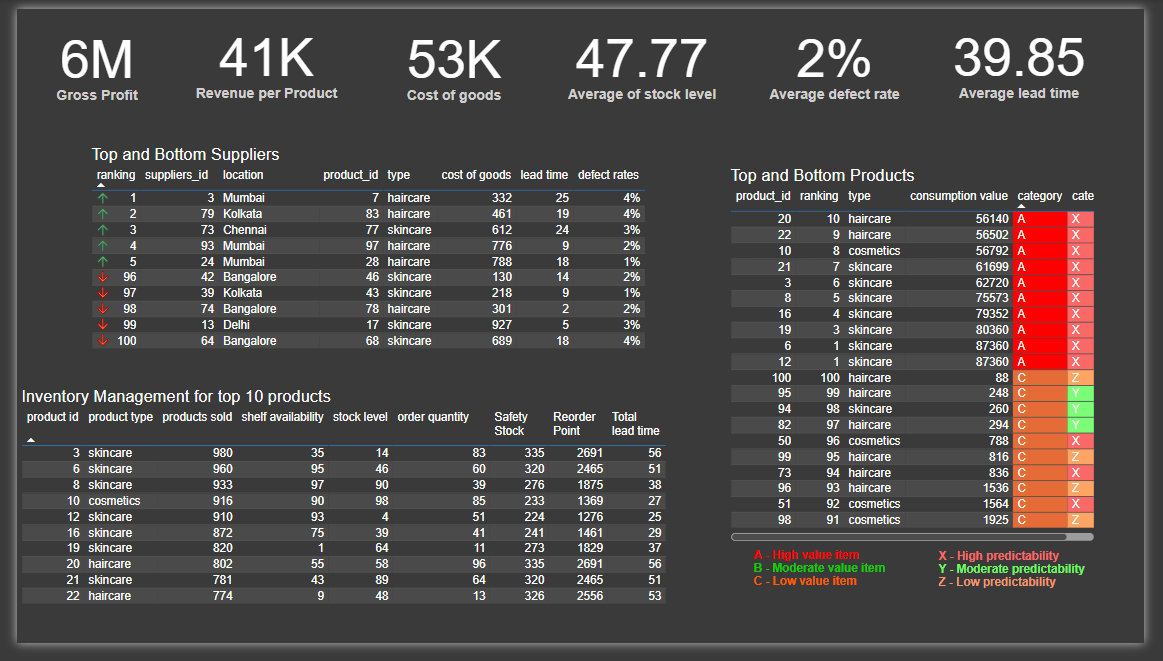

The dashboard page shown, as its layout file describes it:
{"tool":"powerbi","page":{"name":"Sales","canvas":[1280,720],"ordinal":0},"visuals":[{"type":"card","fields":{"Values":["Sum(supplychain sales.gross_profit)"]},"box":[1.1,1.1,179.5,119.3],"z":0},{"type":"card","fields":{"Values":["Sum(supplychain suppliers.cogs)"]},"box":[396.6,6.8,200,109.1],"z":1000},{"type":"card","fields":{"Values":["Sum(supplychain sales.revenue_per_product)"]},"box":[180.7,2.3,205.7,113.6],"z":2000},{"type":"tableEx","title":"Top and Bottom Suppliers","fields":{"Values":["supplychain suppliers_analysis.ranking","supplychain suppliers_analysis.suppliers_id","supplychain suppliers.supplier_location","supplychain suppliers_analysis.product_id","supplychain products.product_type","supplychain suppliers.cogs","supplychain suppliers.suppliers_lead_time","supplychain suppliers.defect_rates"]},"box":[79.5,154.5,659.1,264.8],"z":3000},{"type":"card","fields":{"Values":["Avg(supplychain suppliers.defect_rates)"]},"box":[823.9,0,210.2,119.3],"z":4000},{"type":"card","fields":{"Values":["Avg(supplychain suppliers.total_lead_time)"]},"box":[1034.1,0,209.1,118.2],"z":5000},{"type":"card","fields":{"Values":["Avg(supplychain products.stock_level)"]},"box":[596.6,1.1,227.3,118.2],"z":6000},{"type":"tableEx","title":"Inventory Management for top 10 products","fields":{"Values":["SafetyStockTable.product_id","supplychain products.product_type","supplychain sales.products_sold","supplychain products.shelf_availability","supplychain products.stock_level","supplychain orders.order_quantities","SafetyStockTable.Safety Stock","SafetyStockTable.Reorder Point","SafetyStockTable.Total lead time"]},"box":[0,429.5,754.5,258],"z":7000},{"type":"tableEx","title":"Top and Bottom Products","fields":{"Values":["supplychain product_analysis.product_id","supplychain product_analysis.sales_rank","supplychain products.product_type","supplychain product_analysis.annual_consumption_value","supplychain product_analysis.abc_category","supplychain product_analysis.xyz_category"]},"box":[805.7,178.4,422.7,430.7],"z":8000},{"type":"textbox","box":[1042,609.1,186.4,61.4],"z":9000},{"type":"textbox","box":[831.8,608,172.7,62.5],"z":10000}]}

Visuals, with their boxes in screenshot pixels (x1, y1, x2, y2), scaled from the page's 1280x720 canvas onto the 1163x661 screenshot:
card - Sum(supplychain sales.gross_profit): <box>1,1,164,111</box>
card - Sum(supplychain suppliers.cogs): <box>360,6,542,106</box>
card - Sum(supplychain sales.revenue_per_product): <box>164,2,351,106</box>
"Top and Bottom Suppliers" tableEx: <box>72,142,671,385</box>
card - Avg(supplychain suppliers.defect_rates): <box>749,0,940,110</box>
card - Avg(supplychain suppliers.total_lead_time): <box>940,0,1130,109</box>
card - Avg(supplychain products.stock_level): <box>542,1,749,110</box>
"Inventory Management for top 10 products" tableEx: <box>0,394,686,631</box>
"Top and Bottom Products" tableEx: <box>732,164,1116,559</box>
textbox: <box>947,559,1116,616</box>
textbox: <box>756,558,913,616</box>
